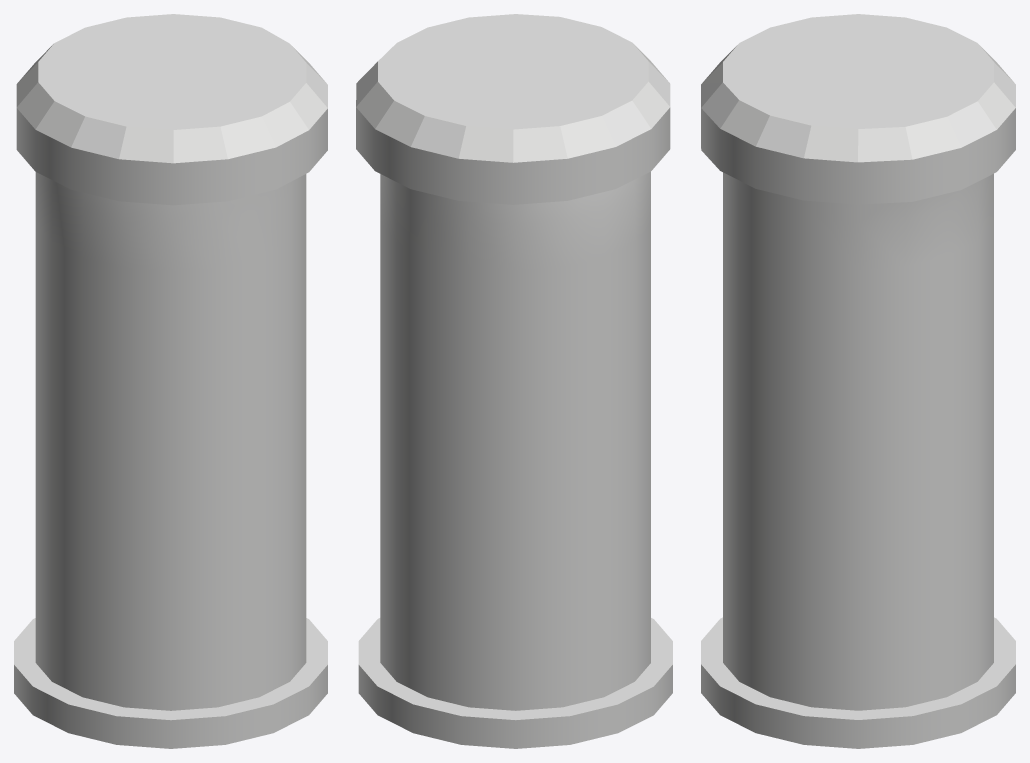
The model's file is ChurchPillar.FBX.
3 renders of one model, left to right at view 1: azimuth 30°, elevation 25°; view 2: azimuth 150°, elevation 25°; view 3: azimuth 270°, elevation 25°, orthographic.
Parts seen in each view (by area): view 1: Cylinder003; view 2: Cylinder003; view 3: Cylinder003.
Boxes of the visible parts, <box> form: Cylinder003: <box>14,14,327,748</box>; Cylinder003: <box>356,14,672,748</box>; Cylinder003: <box>701,14,1015,748</box>.
Bounding box in the file's own units: 41.45 × 87.36 × 40.82.
1 material, 1 textured.
